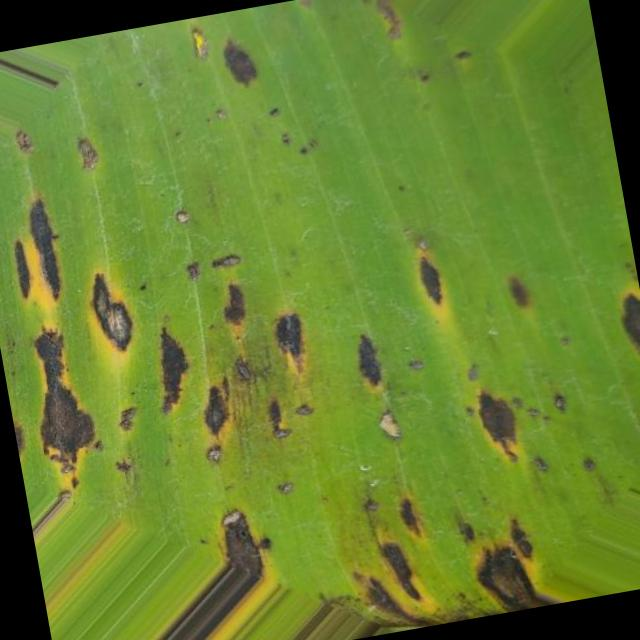Banana_Black_Sigatoka: (229, 211, 633, 640), (0, 154, 229, 528)
